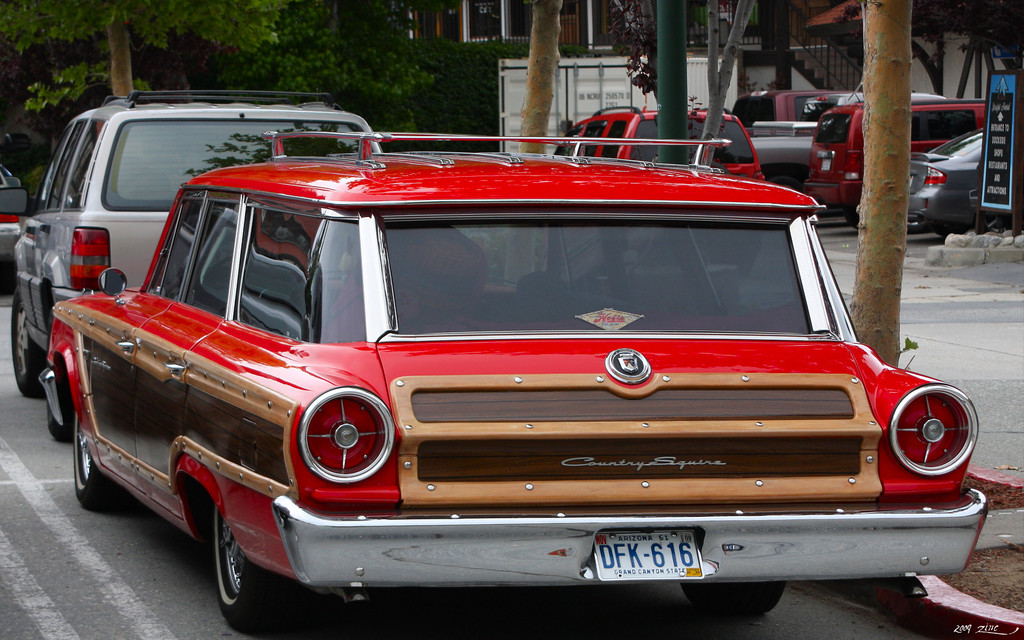license plate: (595, 533, 699, 579)
